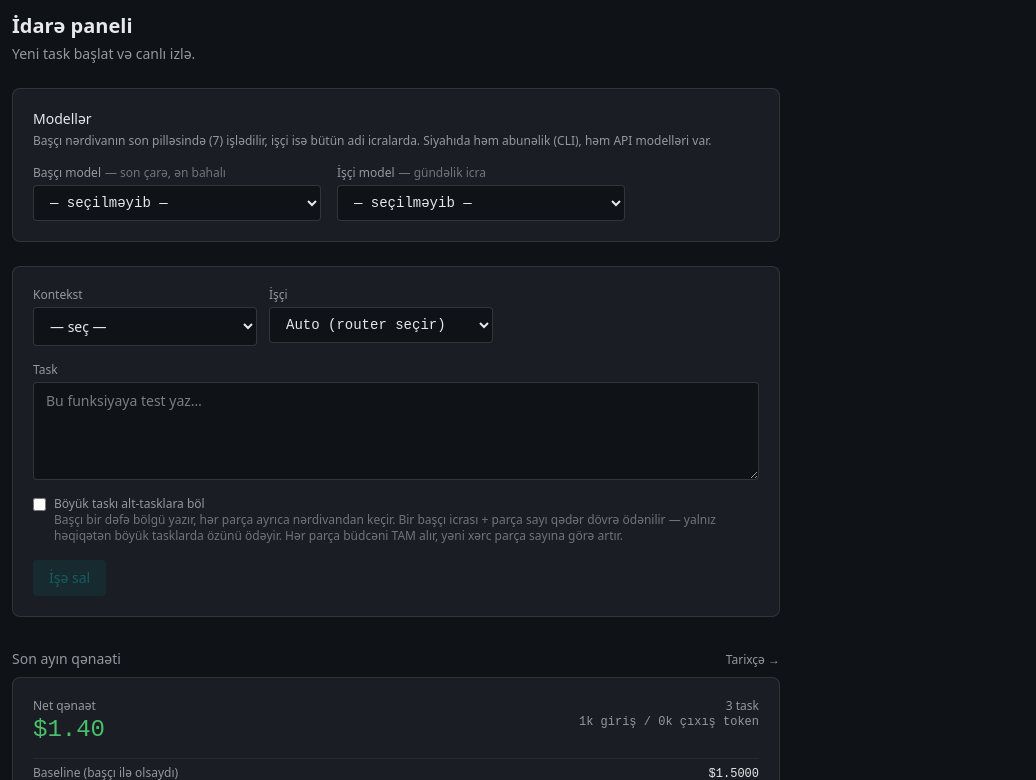
it: Dashboard — hazır olmayan işçi › açarı olmayan API provayderi seçiləndə xəbərdarlıq göstərir
The width and height of the screenshot is (1036, 780).
Select "api:anthropic (real pul)" in the dropdown labelled "İşçi" at coordinates (381, 325), box [269,307,493,343]
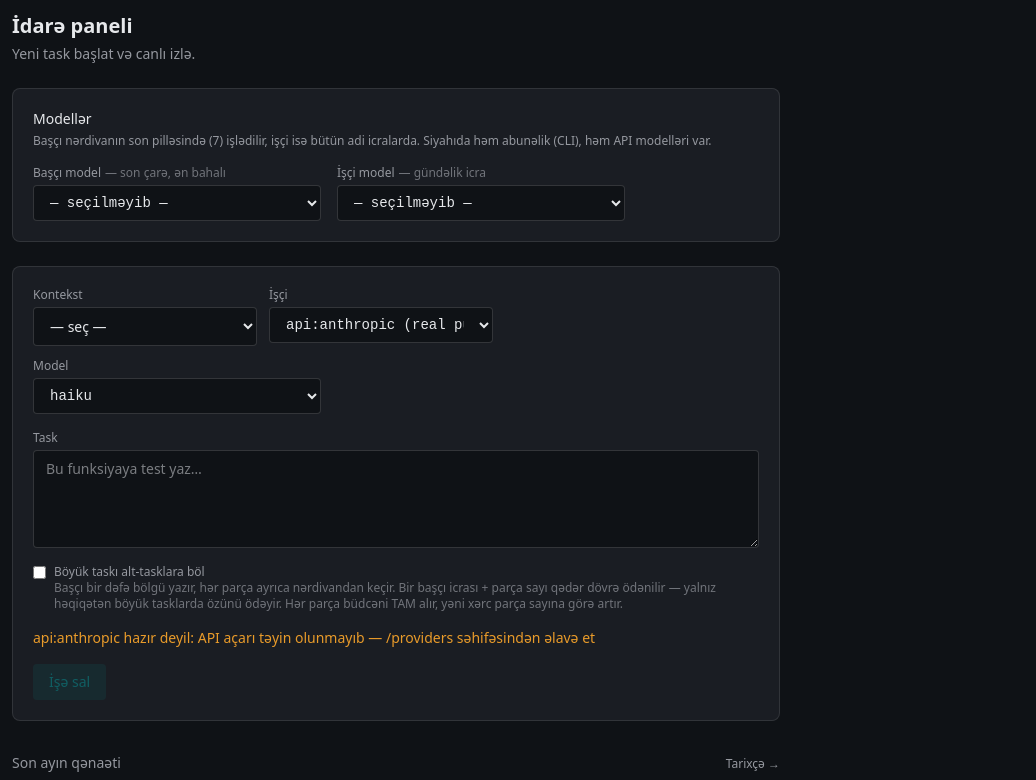
Check: the text "açarı təyin olunmayıb" is shown, box [33,628,595,647]
